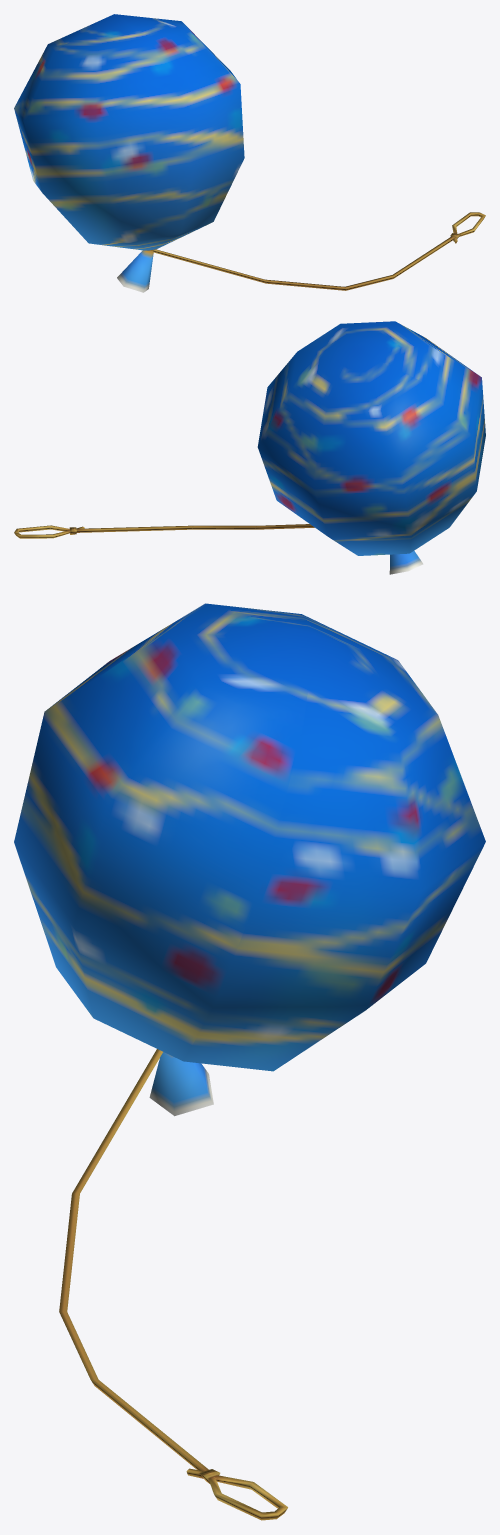
The model's file is jsf_WaterBalloon_02_b.fbx.
The picture shows the model from 3 angles, top to bottom: view 1: azimuth 30°, elevation 25°; view 2: azimuth 150°, elevation 25°; view 3: azimuth 270°, elevation 25°; orthographic projection. The views are drawn at different scales.
Visible parts, largest first — view 1: jsf_WaterBalloon_02_b; view 2: jsf_WaterBalloon_02_b; view 3: jsf_WaterBalloon_02_b.
Part boxes in pixels (<box>): jsf_WaterBalloon_02_b: <box>14,14,485,292</box>; jsf_WaterBalloon_02_b: <box>14,321,485,574</box>; jsf_WaterBalloon_02_b: <box>14,603,485,1520</box>.
Size of the model in its own units: 24.35 by 14.34 by 11.11.
